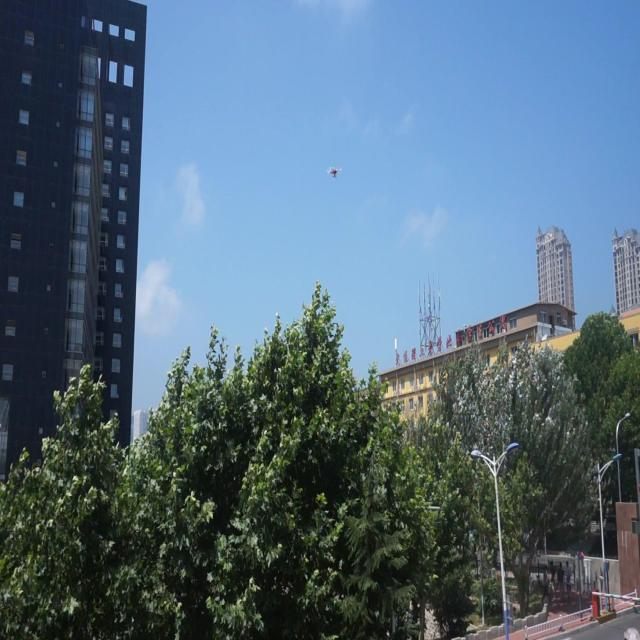drone: (325, 162, 343, 183)
